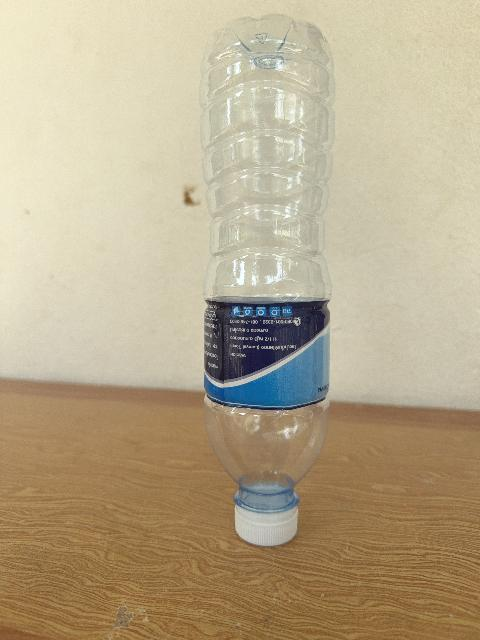bottle: (201, 15, 334, 545)
